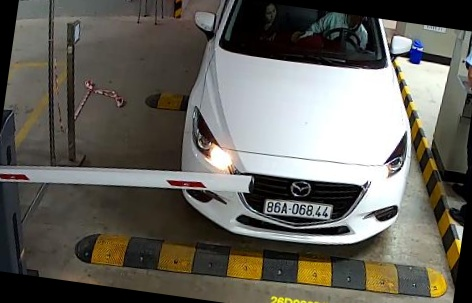plate: (258, 191, 340, 228)
